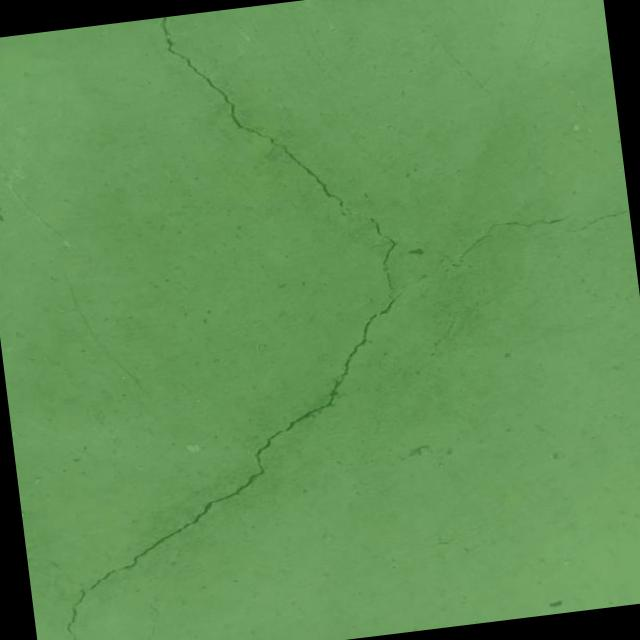crack: (24, 271, 443, 640), (158, 0, 352, 236), (412, 213, 578, 275), (122, 595, 166, 640), (564, 209, 630, 234), (370, 215, 400, 266), (424, 319, 458, 356)
